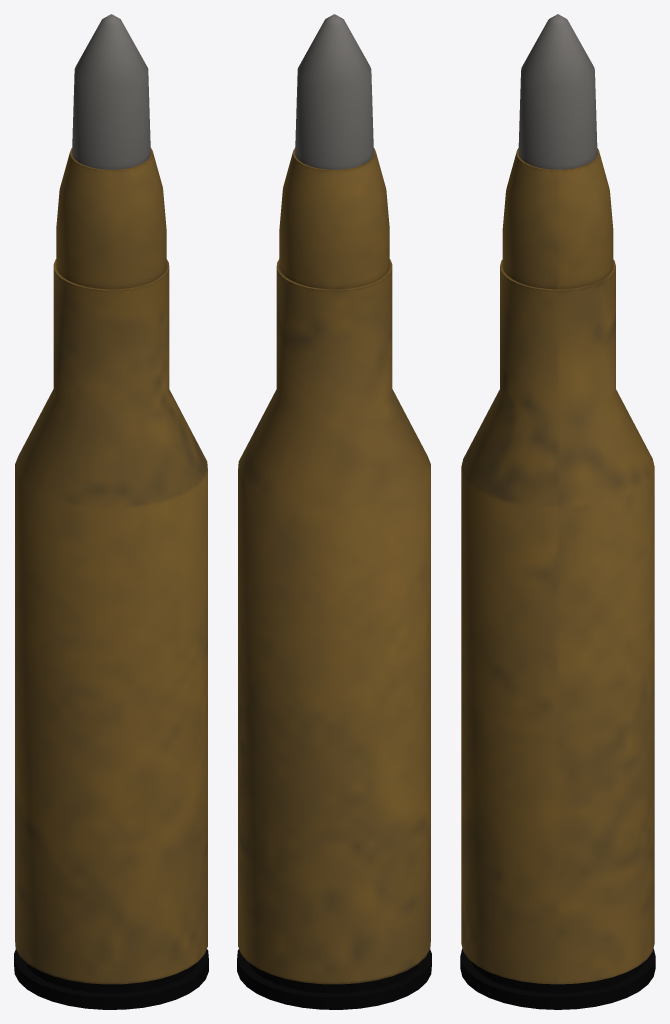
The model's file is PiercingBullets.fbx.
The picture shows the model from 3 angles, left to right: view 1: azimuth 30°, elevation 25°; view 2: azimuth 150°, elevation 25°; view 3: azimuth 270°, elevation 25°; orthographic projection.
Parts seen in each view (by area): view 1: piercing bullets; view 2: piercing bullets; view 3: piercing bullets.
Boxes of the visible parts, x1,y1,x2,y2 form: piercing bullets: (14,14,208,1009); piercing bullets: (237,14,431,1009); piercing bullets: (460,14,655,1009).
Size of the model in its own units: 183 by 989 by 183.
